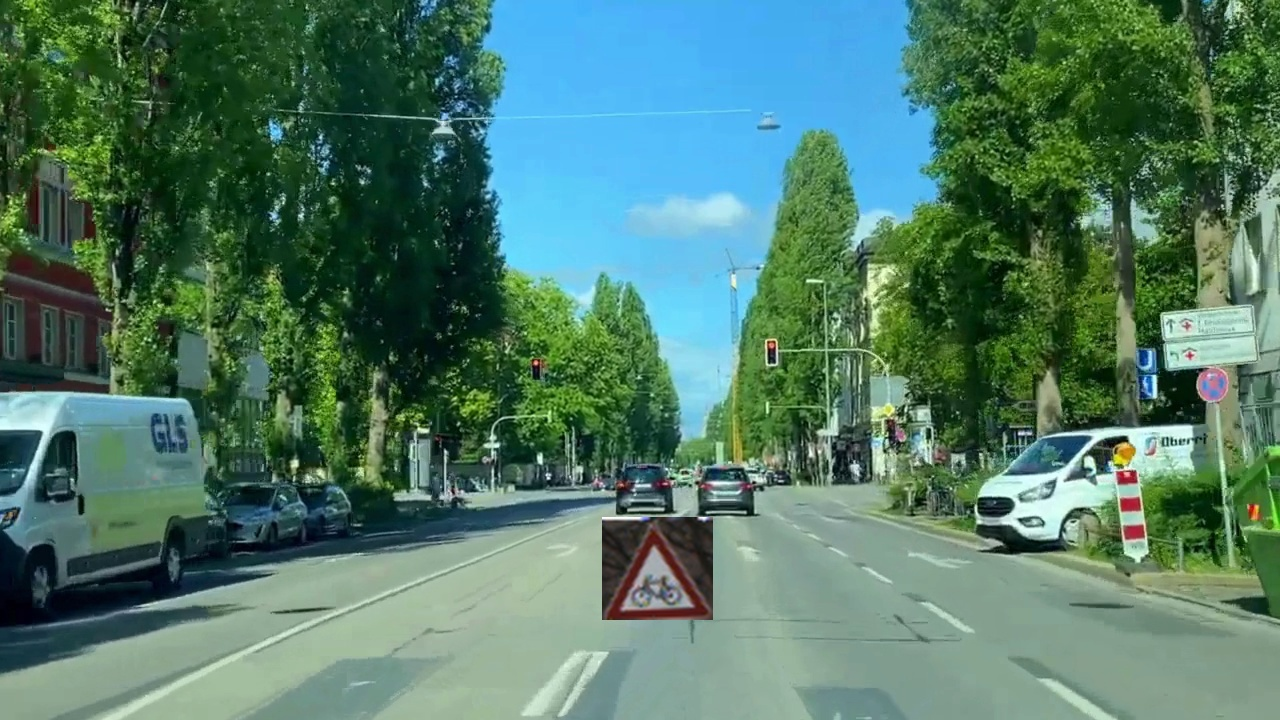Bicycles: (602, 517, 713, 620)
